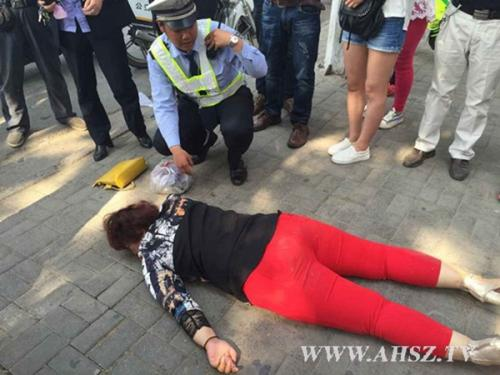fall: (95, 181, 500, 375)
